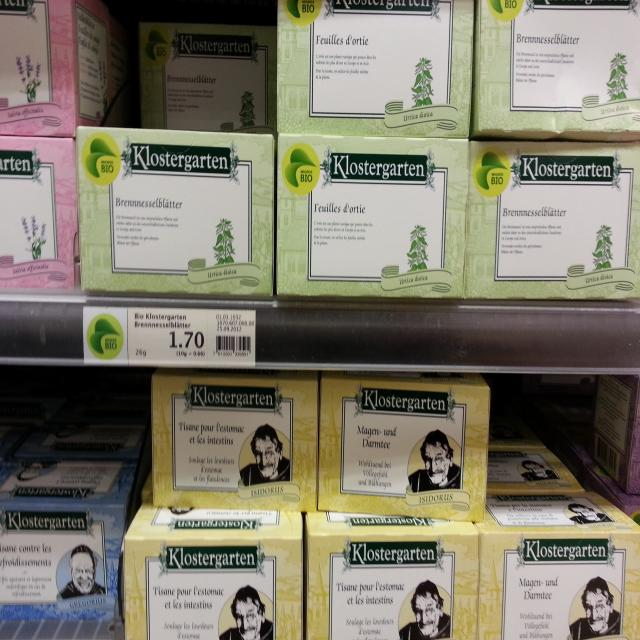Tea: (76, 128, 278, 301), (277, 140, 465, 297), (464, 139, 640, 305), (274, 0, 474, 138), (115, 504, 306, 640), (0, 451, 136, 638), (318, 377, 491, 514), (478, 495, 640, 640), (472, 0, 640, 138), (301, 510, 475, 640), (150, 382, 314, 509), (136, 13, 272, 136), (0, 138, 82, 289), (0, 0, 82, 136), (486, 442, 582, 497)
